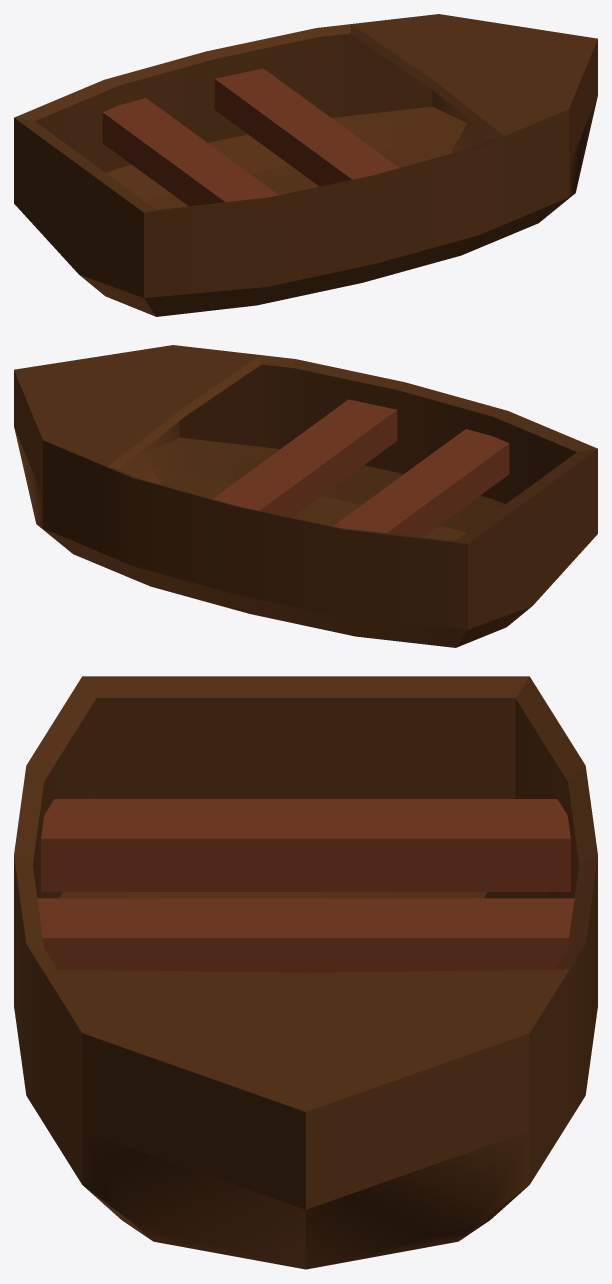
The model's file is Rowboat 1.fbx.
3 views of the same model, one above another, from view 1: azimuth 30°, elevation 25°; view 2: azimuth 150°, elevation 25°; view 3: azimuth 270°, elevation 25° (orthographic). The views are drawn at different scales.
Visible parts, largest first — view 1: Rowboat_1; view 2: Rowboat_1; view 3: Rowboat_1.
Boxes of the visible parts, <box> form: Rowboat_1: <box>14,14,597,316</box>; Rowboat_1: <box>14,345,597,647</box>; Rowboat_1: <box>14,676,597,1269</box>.
Size of the model in its own units: 425 by 108 by 241.
Materials: 1 (1 with a texture image).
